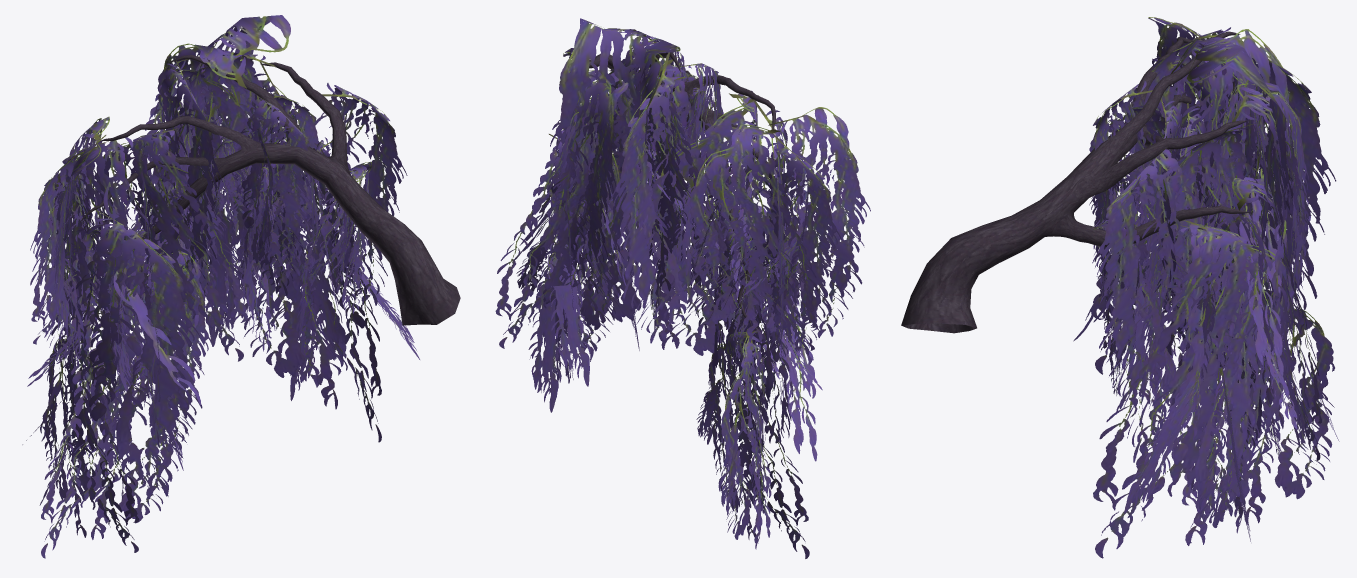
3 renders of one model, left to right at view 1: azimuth 30°, elevation 25°; view 2: azimuth 150°, elevation 25°; view 3: azimuth 270°, elevation 25°, orthographic. The views are drawn at different scales.
Visible parts, largest first — view 1: SM_FH_CliffTree_02_LOD0; view 2: SM_FH_CliffTree_02_LOD0; view 3: SM_FH_CliffTree_02_LOD0.
Part boxes in pixels (left/top/right/bottom): SM_FH_CliffTree_02_LOD0: left=22, top=15, right=460, bottom=558; SM_FH_CliffTree_02_LOD0: left=495, top=18, right=870, bottom=558; SM_FH_CliffTree_02_LOD0: left=901, top=17, right=1339, bottom=558.
Size of the model in its own units: 4.44 by 5.78 by 4.01.
Materials: 1 (1 with a texture image).
